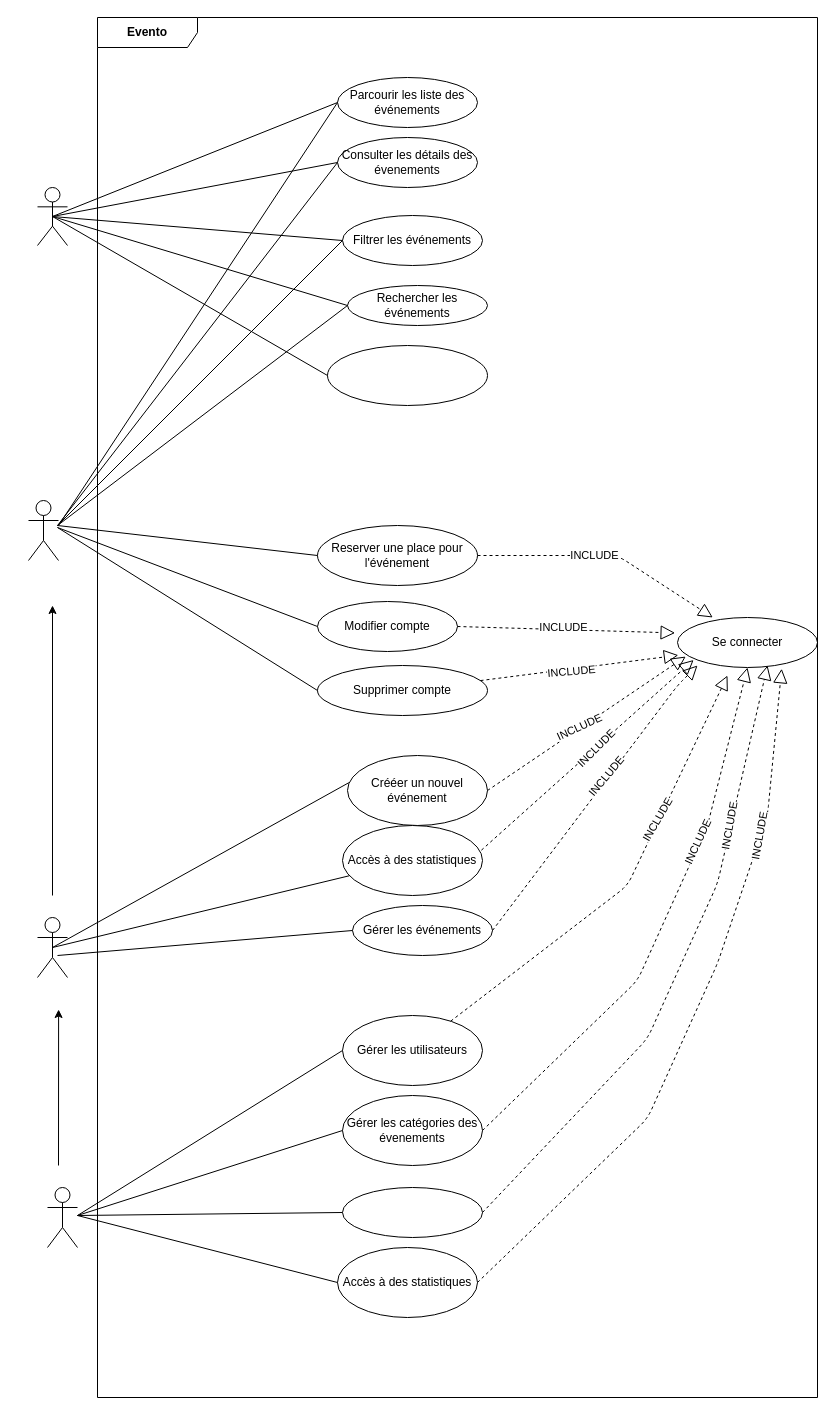
The diagram is 835 pixels wide and 1415 high, and some of its shapes have lost their labels. The shapes that lost their labels are listed below. From the top down, each one's centre as x and y in pixels, then its label:
At point (52, 216): "Visiteur".
At point (407, 375): "S'incrire".
At point (43, 530): "Utilisateur".
At point (52, 947): "Organisateur".
At point (62, 1217): "Admin".
At point (412, 1212): "Valider les évenemnts créés".
